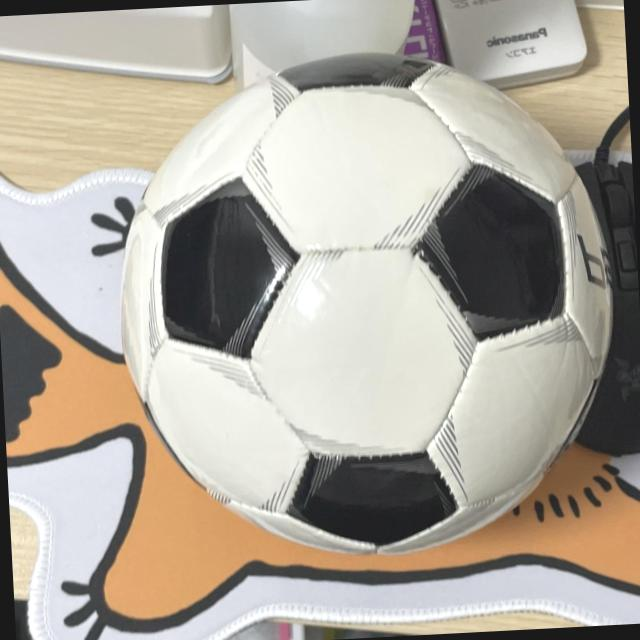Soccer Ball: (110, 38, 630, 571)
